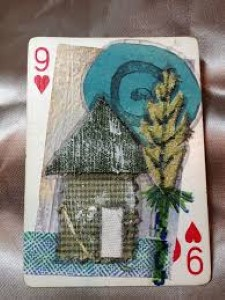NineOfHearts: (19, 30, 215, 288)
